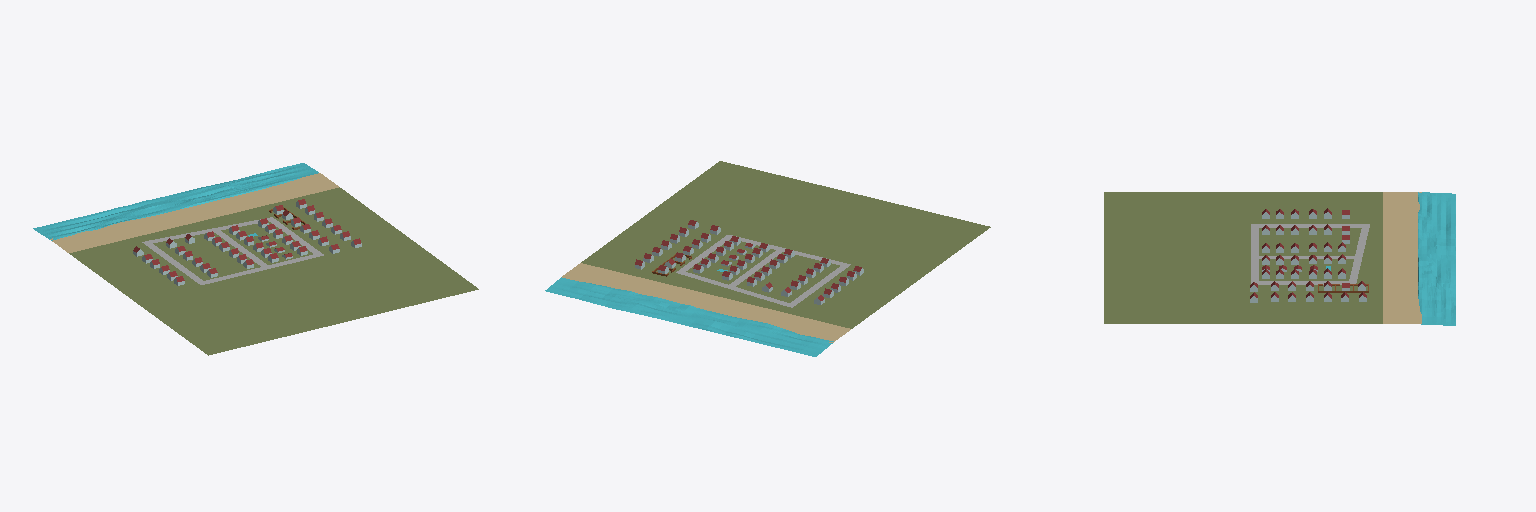
Rendered from mapa_test_1.obj.
3 views of the same model, side by side, from view 1: azimuth 30°, elevation 25°; view 2: azimuth 150°, elevation 25°; view 3: azimuth 270°, elevation 25° (orthographic).
Visible parts, largest first — view 1: mapa test 1; view 2: mapa test 1; view 3: mapa test 1.
Part boxes in pixels (left/top/right/bottom): mapa test 1: left=33, top=163, right=478, bottom=355; mapa test 1: left=545, top=161, right=990, bottom=356; mapa test 1: left=1104, top=192, right=1455, bottom=325.
Bounding box in the file's own units: 80.05 × 2.76 × 89.75.